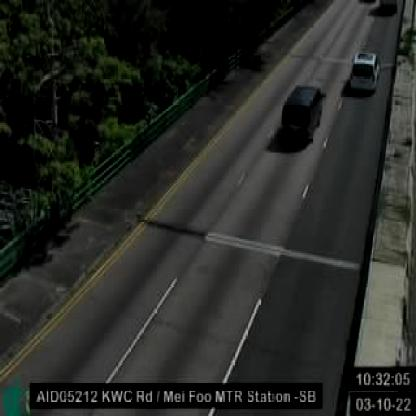Car: (278, 83, 325, 146), (347, 50, 378, 92)
